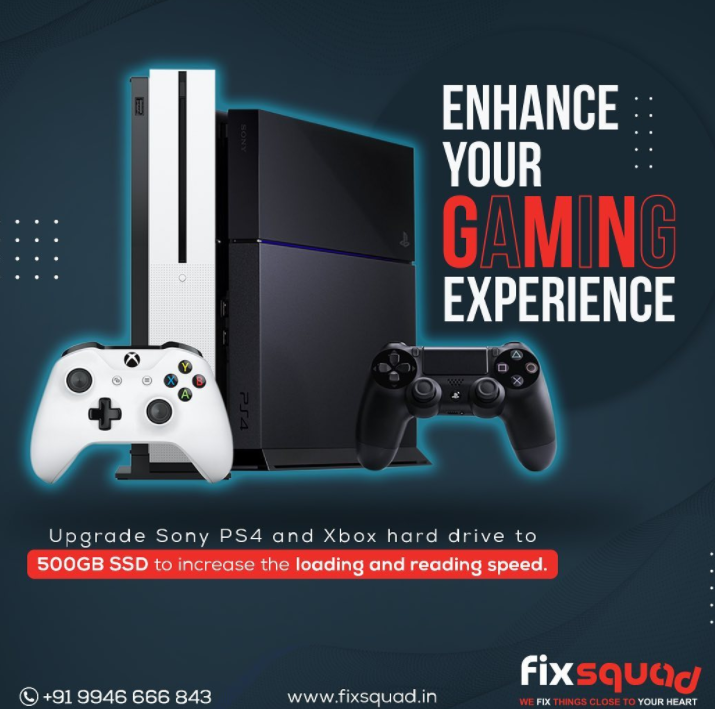gamingconsole: (30, 342, 232, 484), (360, 340, 555, 478)
